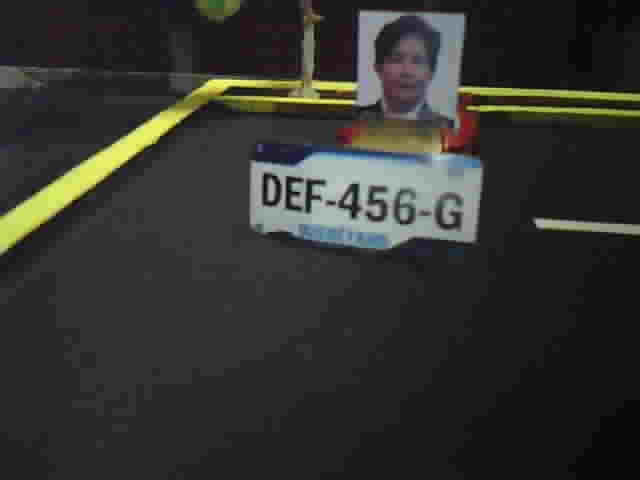PLACA: (246, 138, 487, 267)
ROSTRO: (358, 11, 457, 127)
